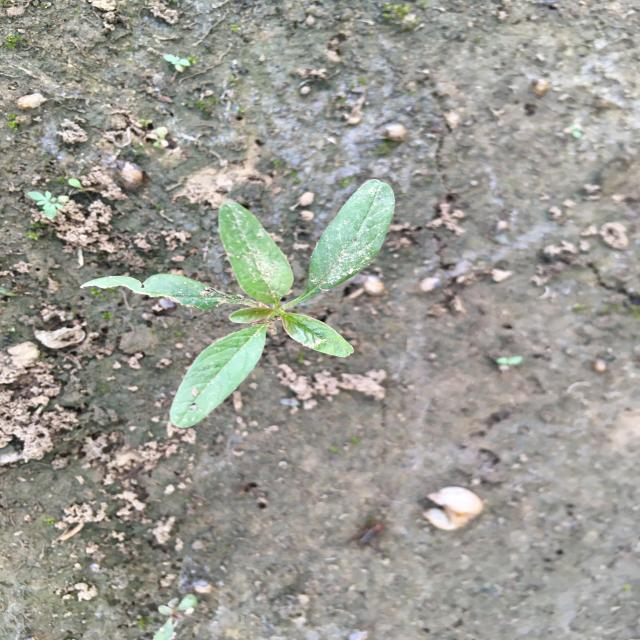Waterhemp: (78, 178, 398, 432)
